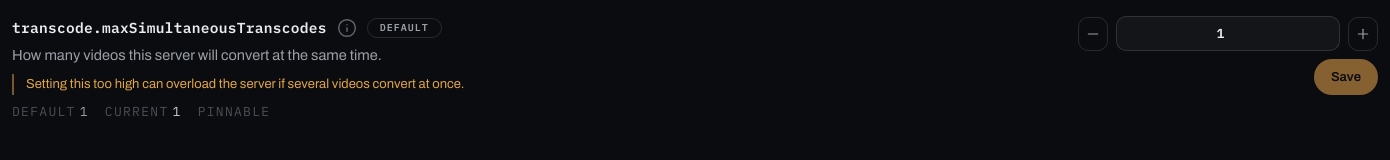
SettingField — Phosphor registry card fidelity › Registry editing interaction spec (README §Interactions → Registry editing) › the number stepper's increment/decrement buttons move the value and mark the field dirty
The width and height of the screenshot is (1390, 160).
Click the button named "Increase".
click(1363, 34)  # box top-left (1348, 16), bottom-right (1378, 50)
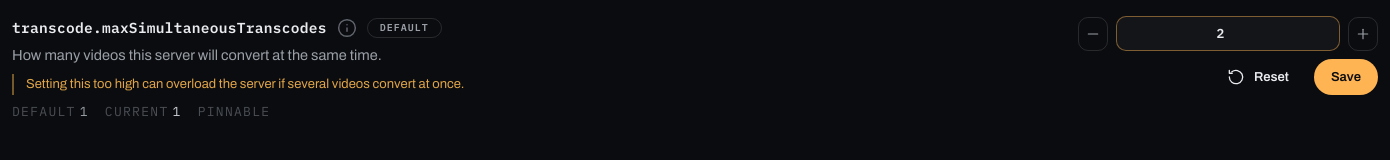
Expected: the number field holds "2", top-left (1116, 16), bottom-right (1340, 51)
Expected: the button "Save" is enabled, top-left (1314, 59), bottom-right (1378, 95)
